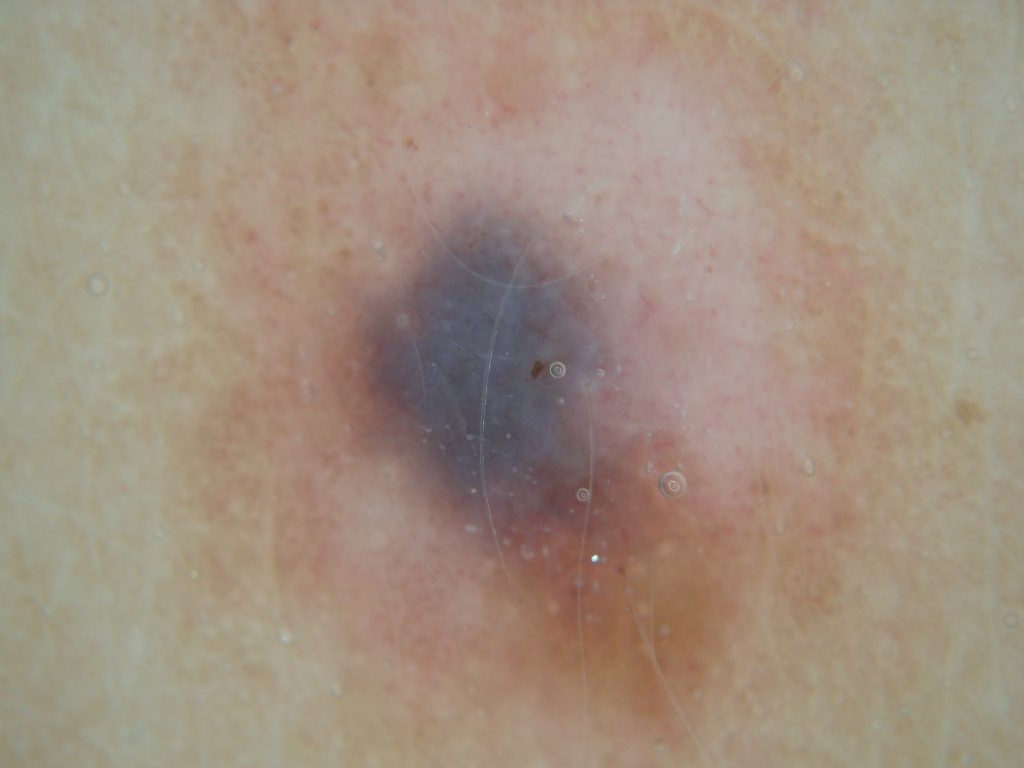Detected Lesion: (321, 187, 774, 742)
